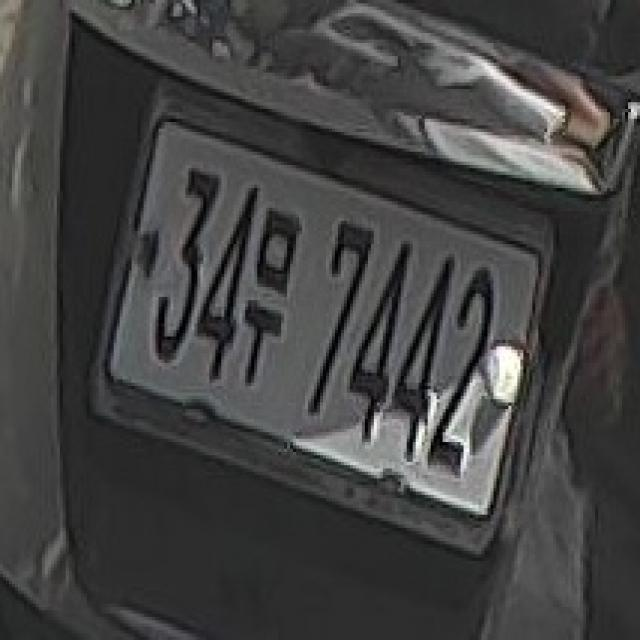2: (424, 267, 502, 468)
3: (152, 165, 222, 373)
4: (388, 248, 454, 465), (192, 181, 258, 386), (347, 234, 404, 452)
7: (305, 211, 374, 416)
license_plate: (102, 105, 547, 528)
mu: (242, 208, 299, 389)
